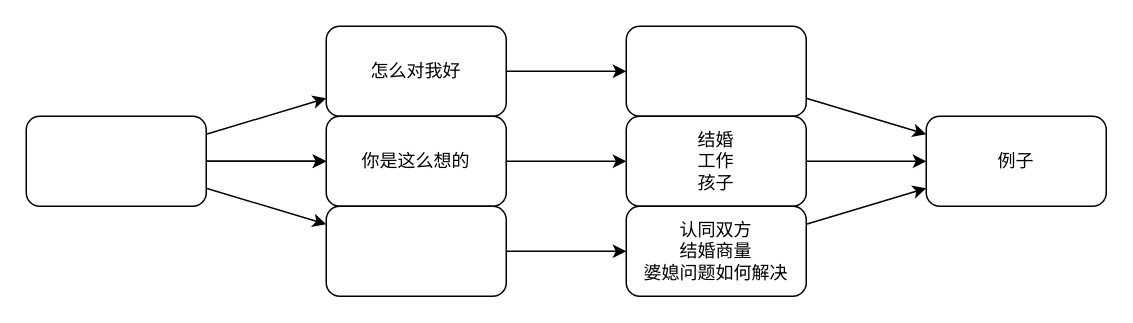
Some shapes in this 1133 by 323 pixel diagram are drawn without their labels. The shapes that lost their labels are listed below. From the top down, each one's centre as x and y in pixels, then its label:
At point (715, 70): "包容、互相理解、不打不骂、共同承担".
At point (115, 160): "未来规划".
At point (415, 250): "父母关系如何处理".
